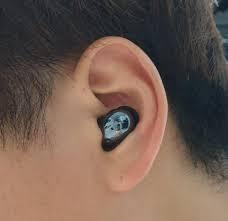earphone: (89, 107, 144, 149)
